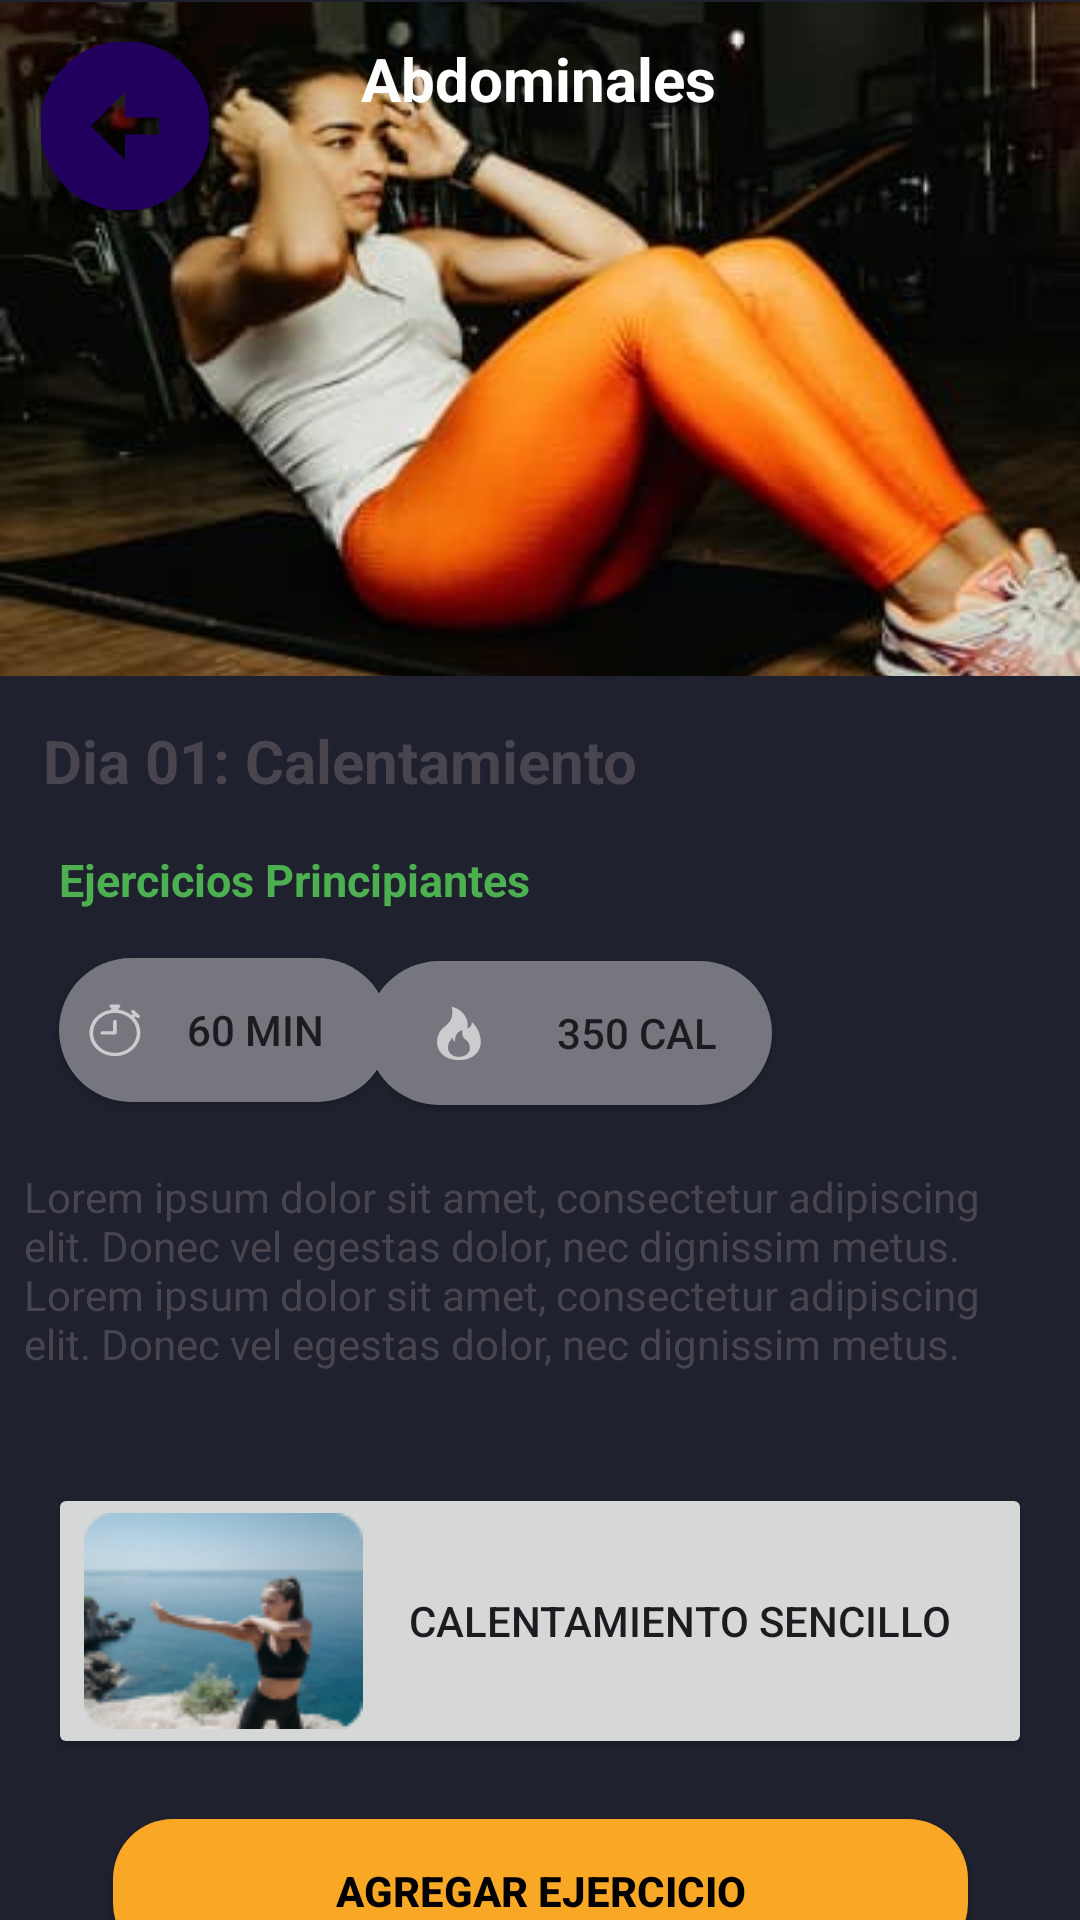

Icons on this 1080px x 1920px Android screen, each with its box as (x1, y1, x2, y2):
arrow return: (41, 42, 209, 210)
